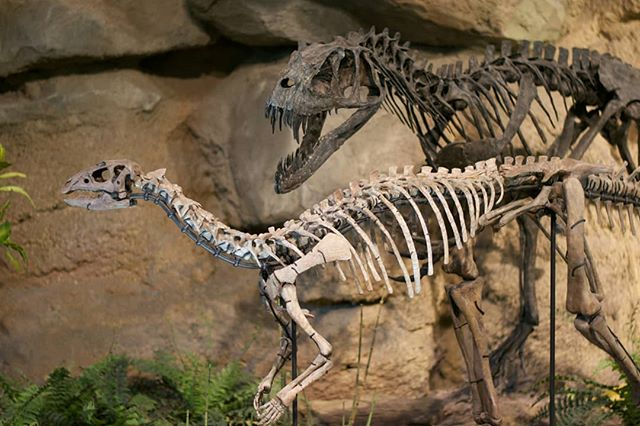bones: (61, 157, 610, 426), (256, 28, 640, 173)
